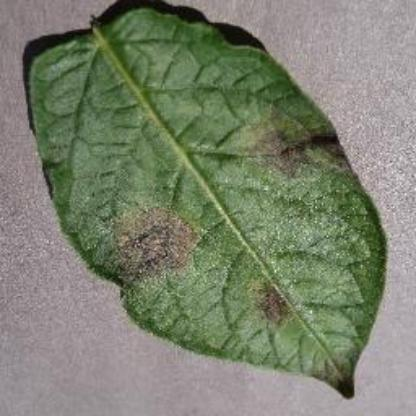Late-Blight: (23, 5, 400, 411)
